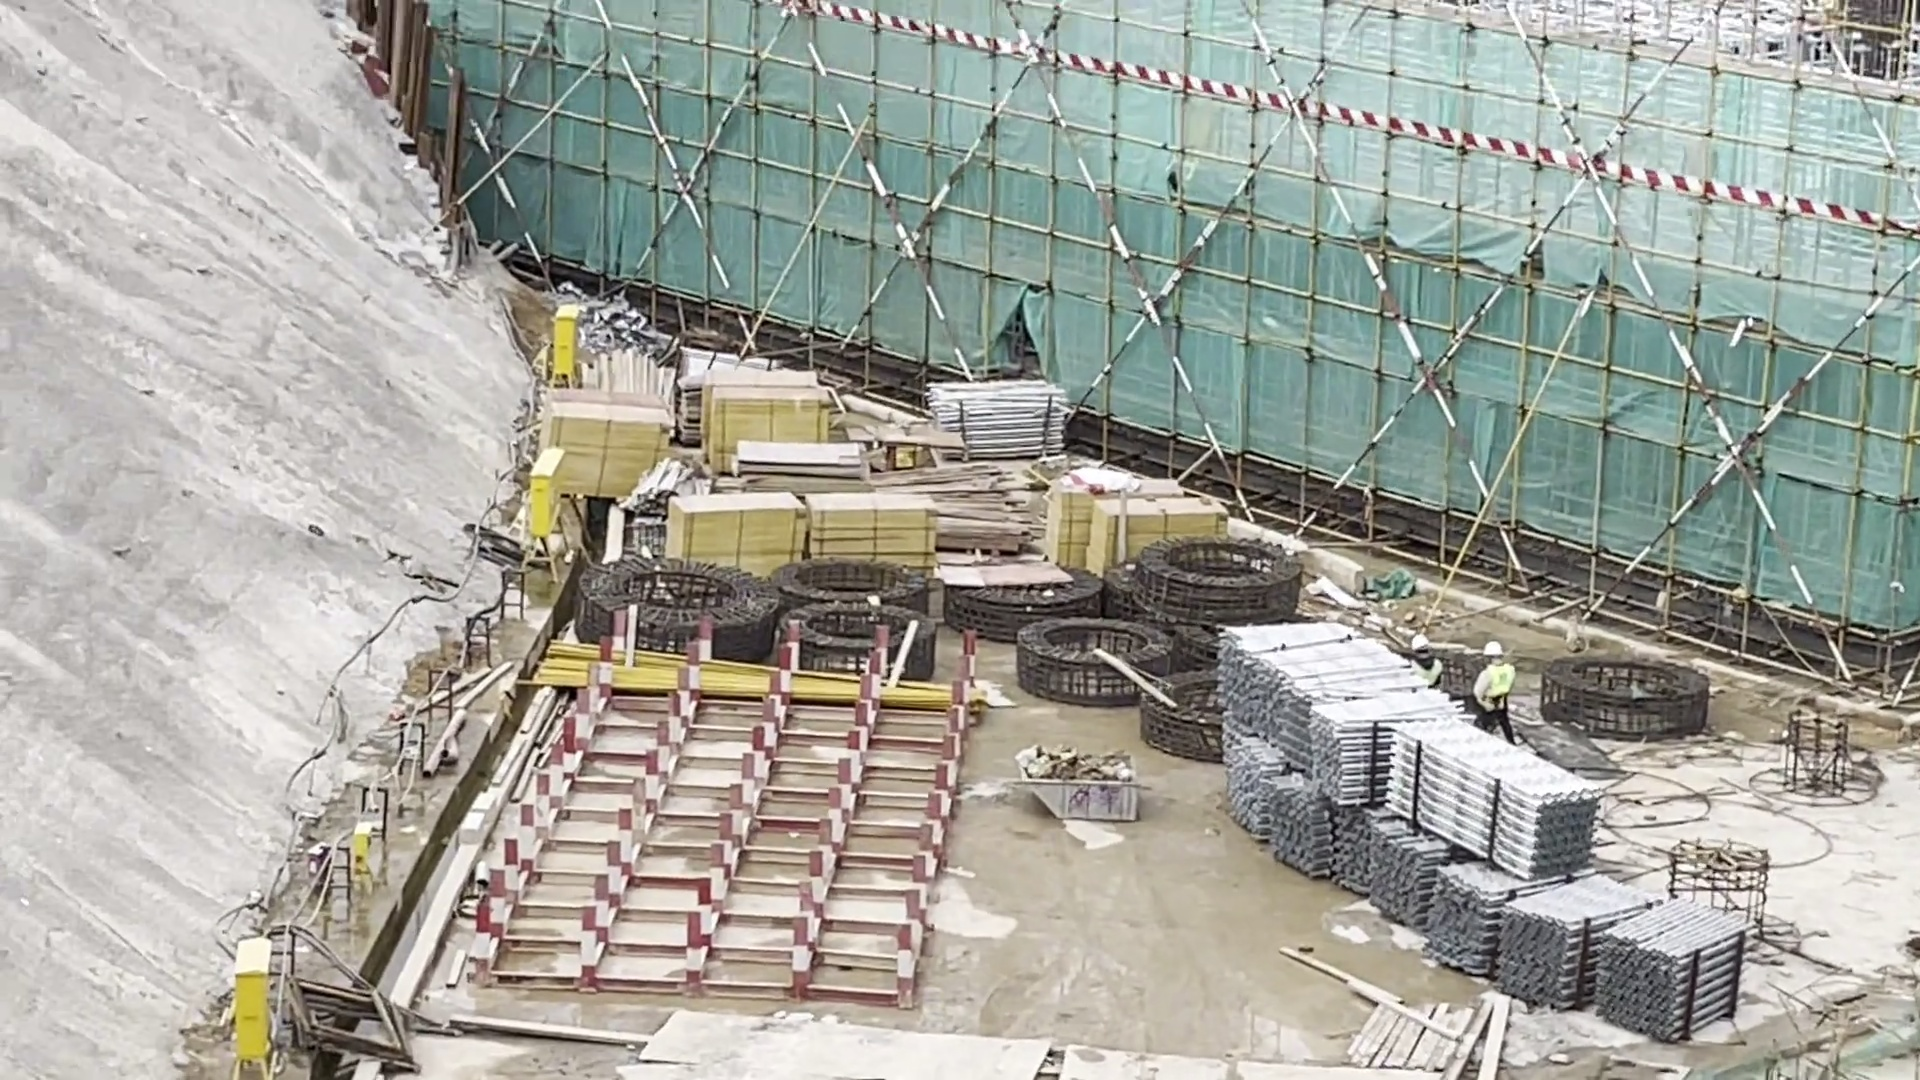ebox: (228, 939, 273, 1080), (527, 446, 563, 587), (553, 303, 580, 390)
helmet: (1479, 642, 1507, 656), (1413, 635, 1427, 652)
hopper: (1020, 750, 1140, 824)
person: (1471, 643, 1529, 734), (1407, 638, 1448, 680)
scaffold: (1218, 619, 1761, 1038), (935, 374, 1066, 457)
vest: (1484, 665, 1514, 699), (1412, 658, 1441, 680)
